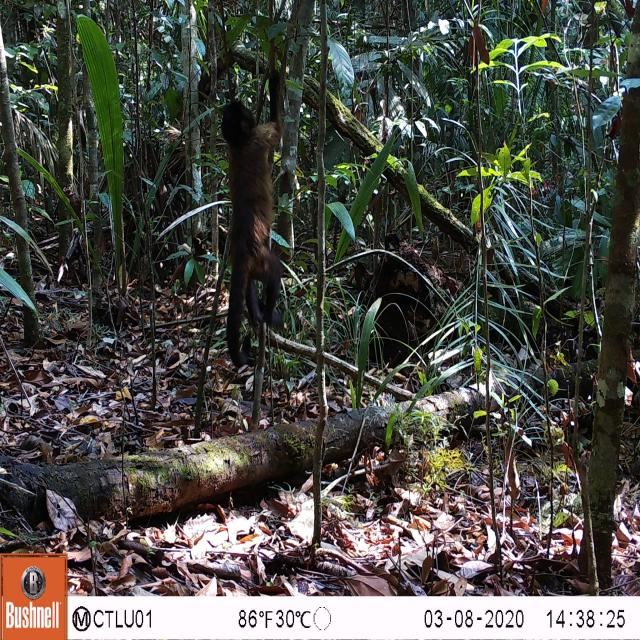Margarita Island Capuchin: (219, 93, 290, 371)
